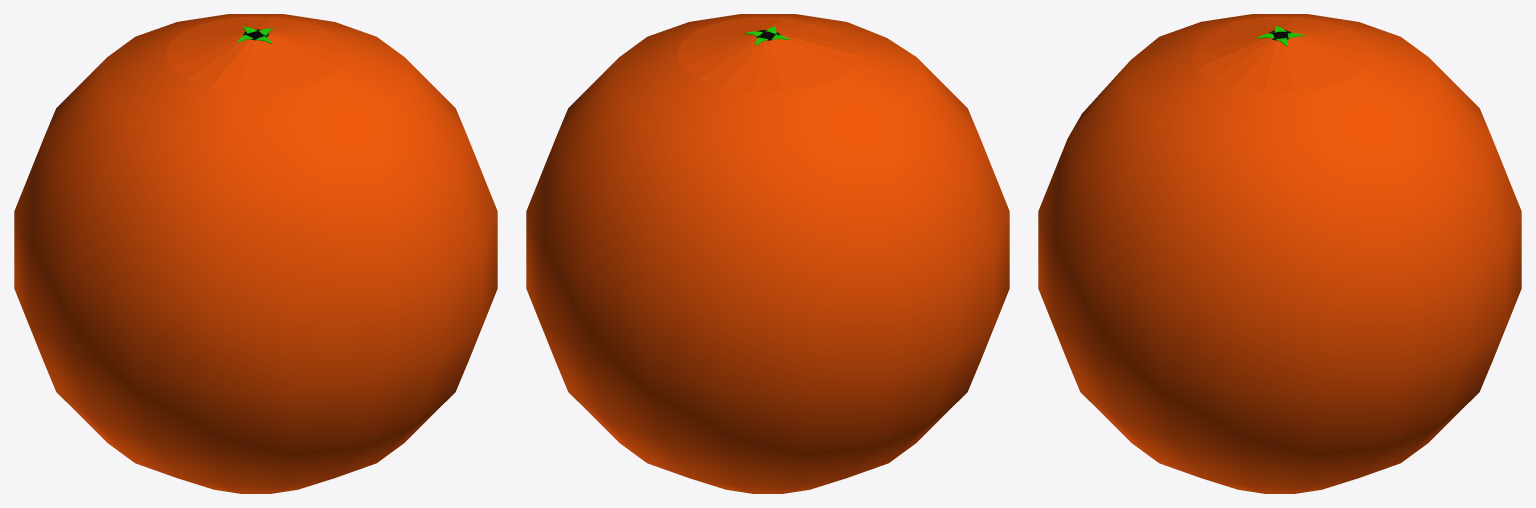
File: orange.fbx
3 renders of one model, left to right at view 1: azimuth 30°, elevation 25°; view 2: azimuth 150°, elevation 25°; view 3: azimuth 270°, elevation 25°, orthographic.
Visible parts, largest first — view 1: Hedra001; view 2: Hedra001; view 3: Hedra001.
Boxes of the visible parts, <box> form: Hedra001: <box>14,14,497,493</box>; Hedra001: <box>526,14,1009,493</box>; Hedra001: <box>1038,14,1521,493</box>.
Bounding box in the file's own units: 127 × 129 × 129.
